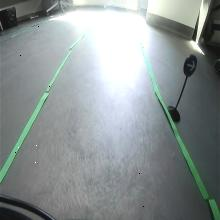right: (184, 53, 198, 80)
